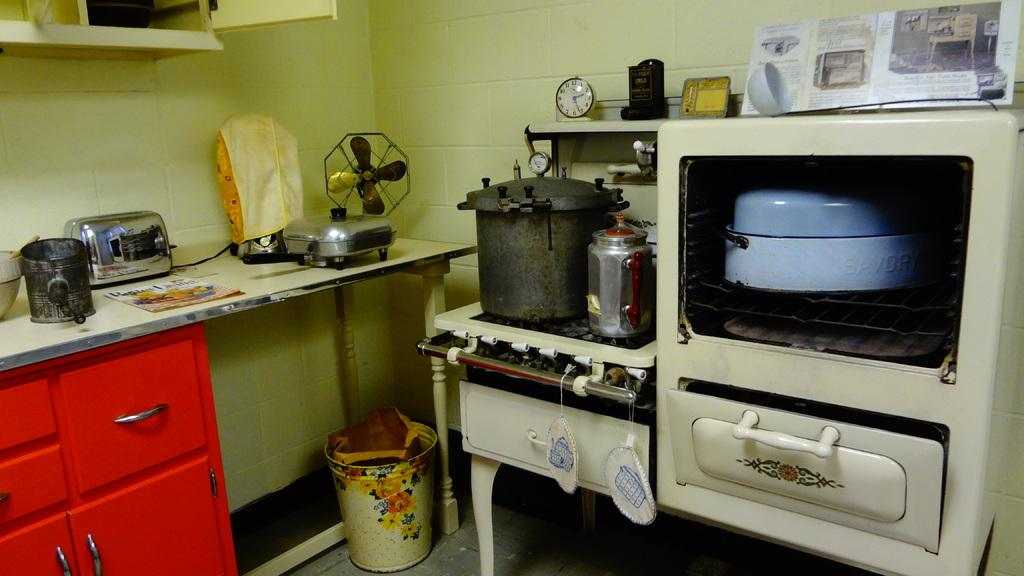cabinet_door: (70, 368, 204, 466), (82, 490, 216, 576), (0, 381, 70, 436), (6, 526, 70, 576), (0, 460, 74, 502)
handle: (732, 419, 838, 465), (105, 403, 173, 428), (82, 524, 106, 576), (50, 540, 76, 576)
